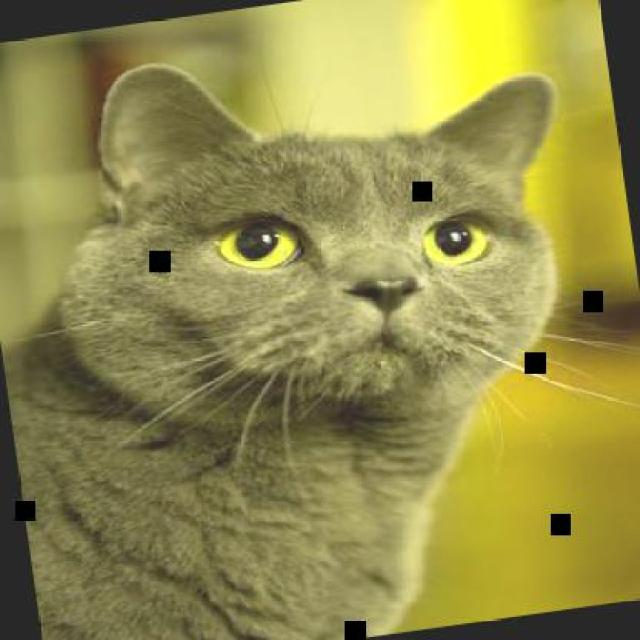cat: (0, 6, 631, 639)
